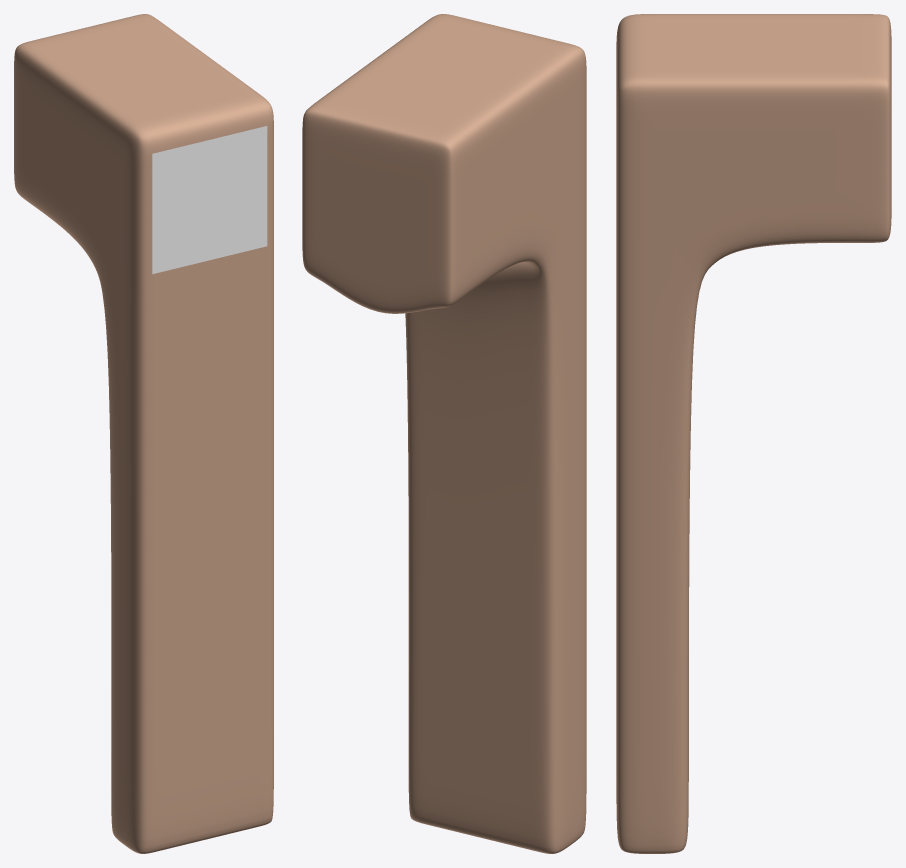
The model's file is Hoppe_Toulon.fbx.
The picture shows the model from 3 angles, left to right: view 1: azimuth 30°, elevation 25°; view 2: azimuth 150°, elevation 25°; view 3: azimuth 270°, elevation 25°; orthographic projection. The views are drawn at different scales.
Parts seen in each view (by area): view 1: Hoppe_Toulon; view 2: Hoppe_Toulon; view 3: Hoppe_Toulon.
Boxes of the visible parts, left/top/right/bottom form: Hoppe_Toulon: left=14, top=14, right=273, bottom=853; Hoppe_Toulon: left=302, top=14, right=586, bottom=853; Hoppe_Toulon: left=616, top=14, right=891, bottom=853.
Size of the model in its own units: 3.19 by 15.78 by 5.1.
